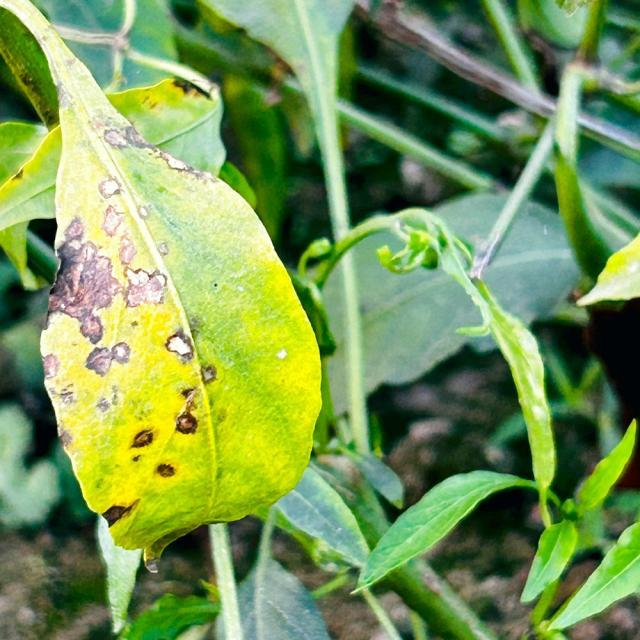Bercak Daun Serkospora: (0, 0, 324, 572)
